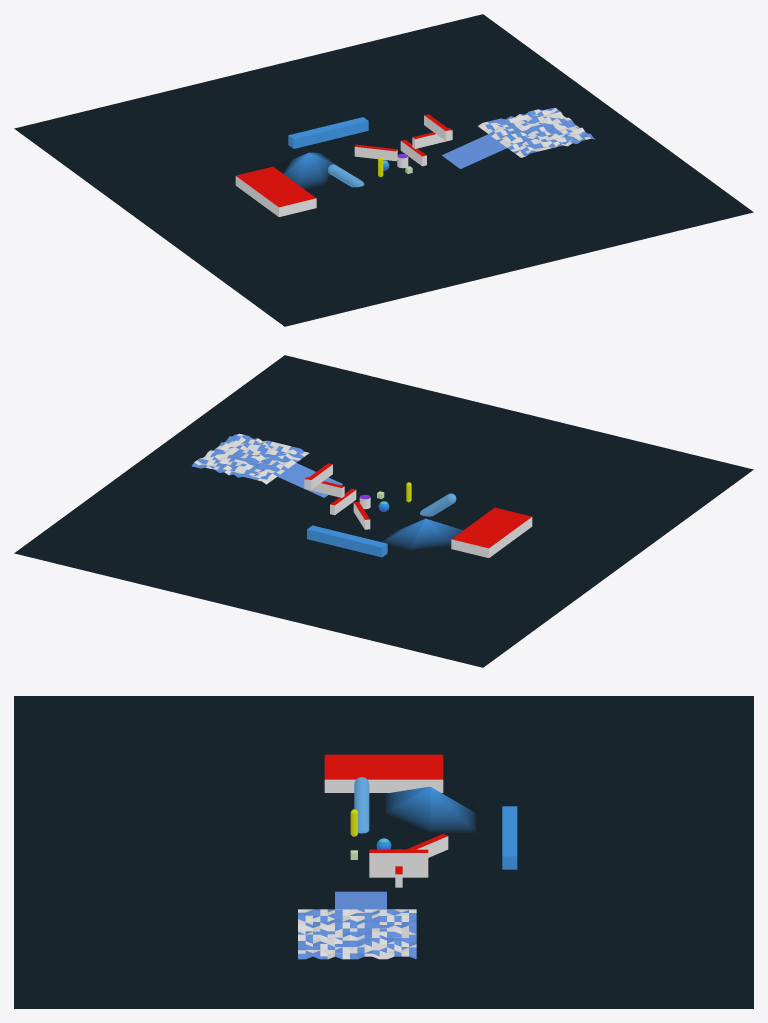
File: bounds.gltf
The picture shows the model from 3 angles, top to bottom: view 1: azimuth 30°, elevation 25°; view 2: azimuth 150°, elevation 25°; view 3: azimuth 270°, elevation 25°; orthographic projection. The views are drawn at different scales.
Visible parts, largest first — view 1: Ground, Plane, Cube.003, Cube.006; view 2: Ground, Plane, Cube.003; view 3: Ground, Plane, Cube.003, Cube.002, StaticCapsule, Cube.007.
Boxes of the visible parts, left/top/right/bottom form: Ground: left=14, top=14, right=753, bottom=326; Plane: left=442, top=107, right=595, bottom=168; Cube.003: left=235, top=166, right=316, bottom=216; Cube.006: left=354, top=144, right=397, bottom=161; Ground: left=14, top=355, right=753, bottom=667; Plane: left=192, top=433, right=342, bottom=497; Cube.003: left=451, top=507, right=532, bottom=557; Ground: left=14, top=696, right=753, bottom=1008; Plane: left=298, top=891, right=416, bottom=959; Cube.003: left=324, top=754, right=443, bottom=792; Cube.002: left=369, top=849, right=428, bottom=866; StaticCapsule: left=354, top=777, right=369, bottom=833; Cube.007: left=369, top=866, right=428, bottom=877.
Size of the model in its own units: 100 by 7.18 by 100.
